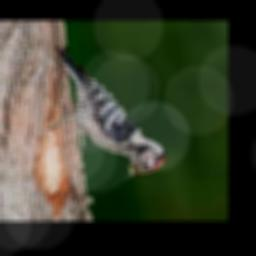Woodpecker: (48, 48, 167, 182)
